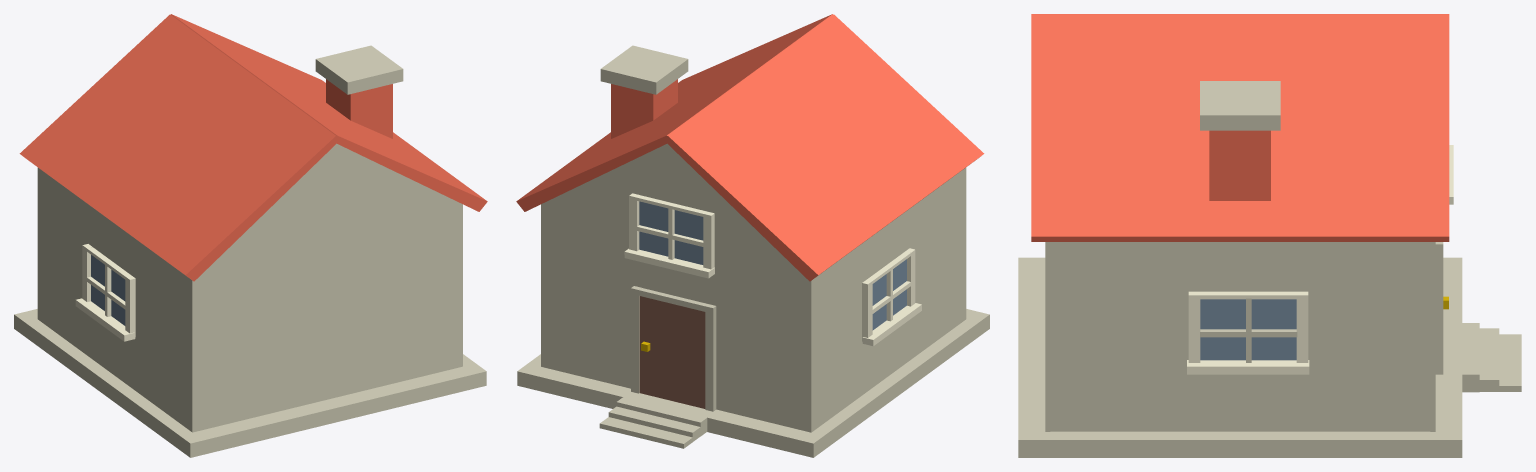
File: Basic House.fbx
3 renders of one model, left to right at view 1: azimuth 30°, elevation 25°; view 2: azimuth 150°, elevation 25°; view 3: azimuth 270°, elevation 25°, orthographic. The views are drawn at different scales.
Visible parts, largest first — view 1: pasted__pasted__pasted__pCube1 (×2), pasted__pasted__pCube1, pasted__pCube1 (×2), pCube1, pasted__pCube2, pCube2, pasted__pasted__pasted__pasted__pasted__pCube1 (×2), pasted__pasted__pasted__pasted__pCube1; view 2: pasted__pasted__pCube1 (×3), pasted__pCube1 (×5), pCube1, pasted__pasted__pasted__pasted__pCube1 (×2), pasted__pasted__pasted__pasted__pasted__pCube1 (×4), pasted__pCube2, pCube2, pasted__pasted__pasted__pCube1 (×2); view 3: pasted__pCube1 (×3), pasted__pasted__pCube1 (×3), pCube1, pasted__pasted__pasted__pCube1 (×3), pCube2, pasted__pCube2, pasted__pasted__pasted__pasted__pCube1, pasted__pCube3.
Boxes of the visible parts, x1,y1,x2,y2 form: pasted__pasted__pasted__pCube1 (×2): (82,143,462,432); pasted__pasted__pCube1: (19,14,340,281); pasted__pCube1 (×2): (37,14,487,432); pCube1: (14,309,486,457); pasted__pCube2: (315,45,403,94); pCube2: (326,79,392,138); pasted__pasted__pasted__pasted__pasted__pCube1 (×2): (75,275,135,341); pasted__pasted__pasted__pasted__pCube1: (91,255,125,325); pasted__pasted__pCube1 (×3): (541,14,984,432); pasted__pCube1 (×5): (516,14,966,448); pCube1: (517,309,989,457); pasted__pasted__pasted__pasted__pCube1 (×2): (639,201,906,330); pasted__pasted__pasted__pasted__pasted__pCube1 (×4): (624,211,921,346); pasted__pCube2: (600,45,688,94); pCube2: (611,79,677,138); pasted__pasted__pasted__pCube1 (×2): (629,193,910,341); pasted__pCube1 (×3): (1031,14,1521,392); pasted__pasted__pCube1 (×3): (1050,242,1435,431); pCube1: (1018,257,1462,457); pasted__pasted__pasted__pCube1 (×3): (1045,242,1308,431); pCube2: (1209,130,1270,200); pasted__pCube2: (1200,81,1280,130); pasted__pasted__pasted__pasted__pCube1: (1187,360,1309,374); pasted__pCube3: (1200,329,1297,337).
Bounding box in the file's own units: 7.12 × 6.34 × 8.15.
